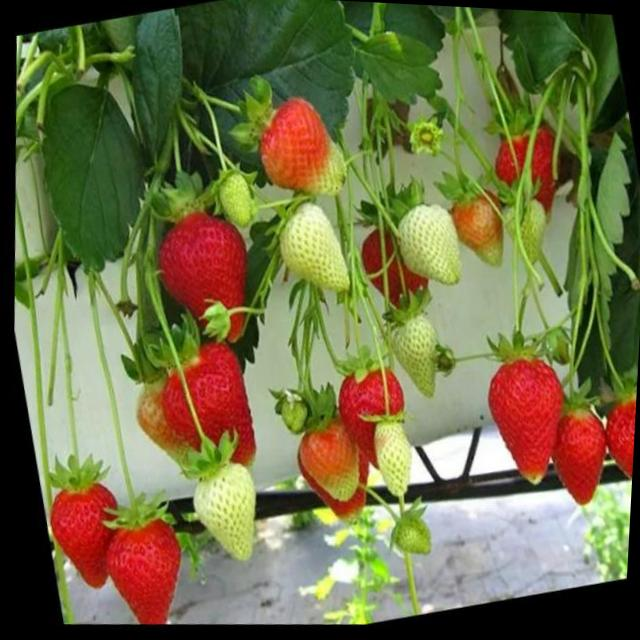ripe: (137, 198, 262, 360), (464, 347, 582, 506), (152, 340, 266, 489), (30, 464, 132, 604), (94, 508, 192, 630), (280, 420, 375, 540), (530, 403, 618, 531), (324, 362, 416, 480), (584, 396, 636, 546), (484, 128, 568, 219)
